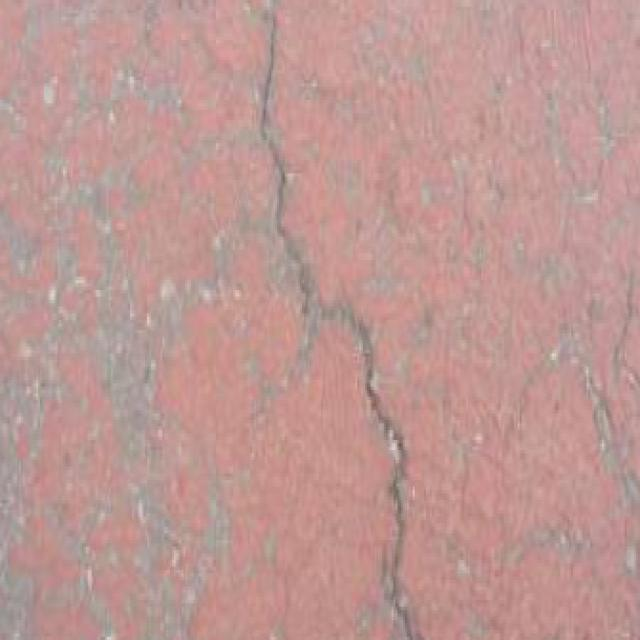curved crack: (260, 0, 422, 639)
